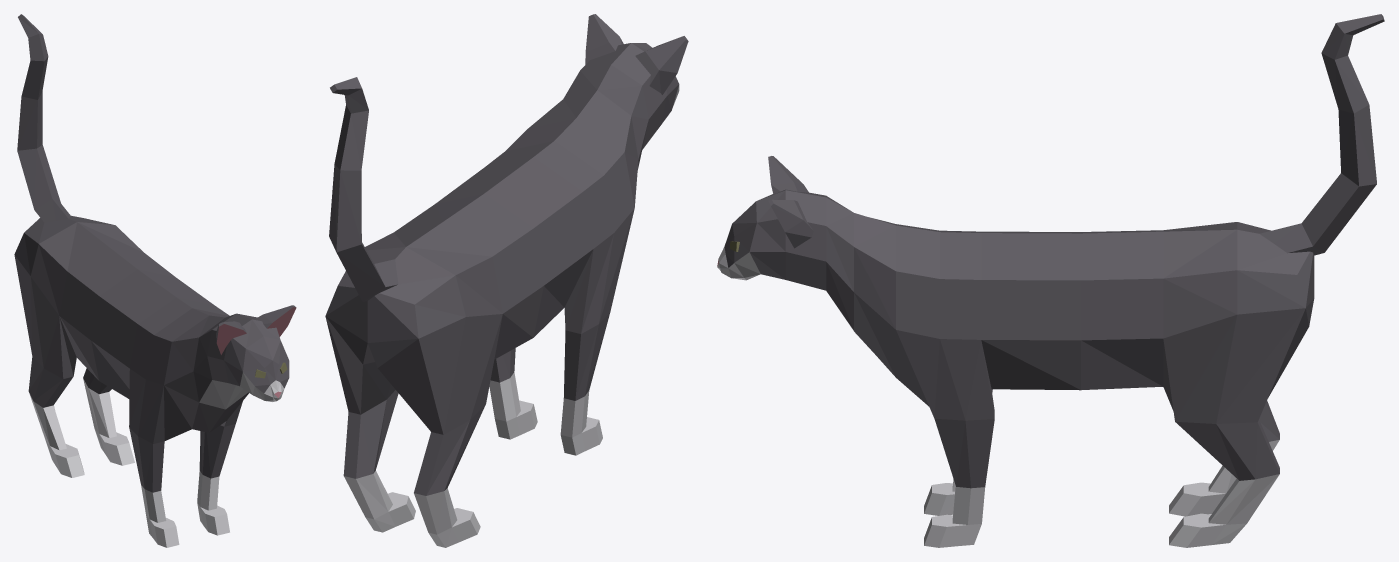
File: cat.glb
3 views of the same model, side by side, from view 1: azimuth 30°, elevation 25°; view 2: azimuth 150°, elevation 25°; view 3: azimuth 270°, elevation 25° (orthographic). The views are drawn at different scales.
Visible parts, largest first — view 1: cat; view 2: cat; view 3: cat.
Boxes of the visible parts, x1=… form: cat: x1=14, y1=14, x2=296, y2=547; cat: x1=325, y1=14, x2=688, y2=547; cat: x1=717, y1=14, x2=1384, y2=547.
Bounding box in the file's own units: 17.49 × 71.29 × 84.26.
